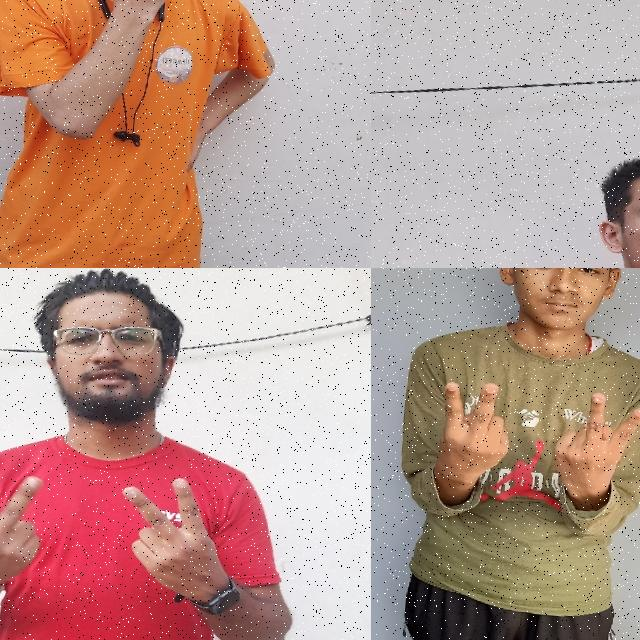Chin Flick: (574, 124, 640, 268)
Reversed Victory: (105, 462, 238, 614), (421, 367, 522, 522), (543, 377, 640, 505), (0, 458, 49, 602)
